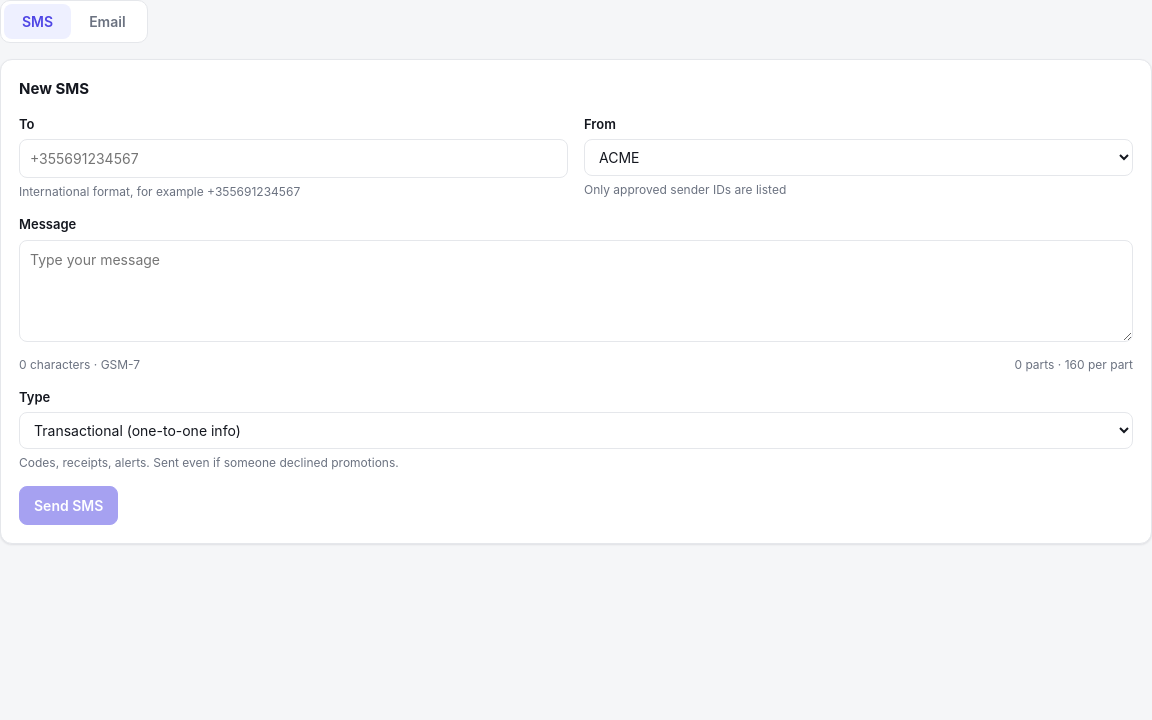
Send SMS › validates the number, shows the live price and sends with an Idempotency-Key
The image size is (1152, 720).
Expected: the button "Send SMS" is disabled, [19,486,118,525]
Type "0691234567" into the field with placeholder "+355691234567". click: (294, 158)
box: [19,139,568,178]
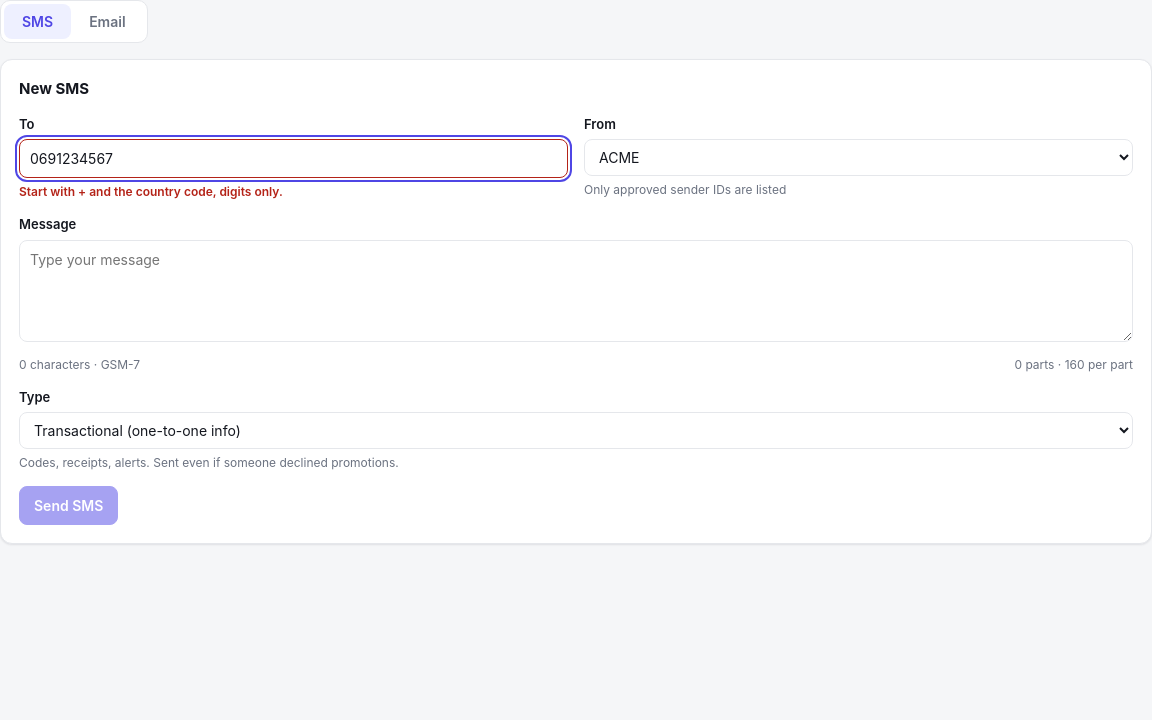
Expected: the button "Send SMS" is disabled, [19,486,118,525]
Replace the text in the field with placeholder "+355691234567" with "+355691234567". click: (294, 158)
box: [19,139,568,178]
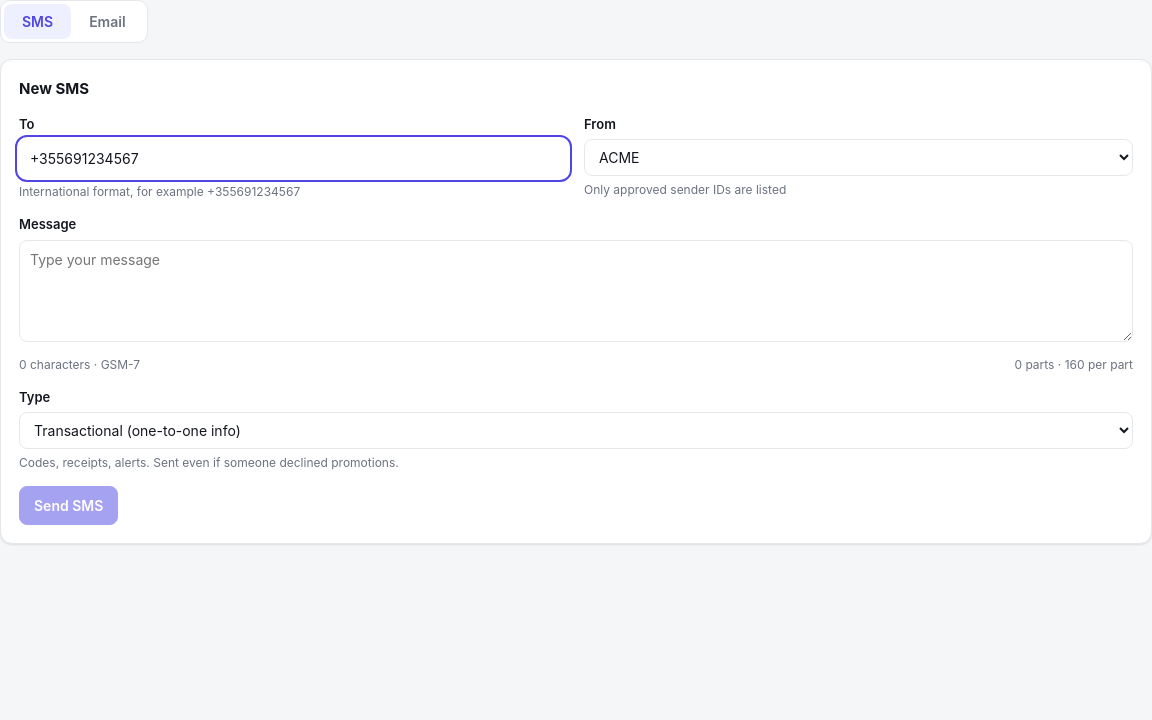
Type "Hello there" into the text box labelled "Message". click: (576, 290)
box: [19,240,1133,342]
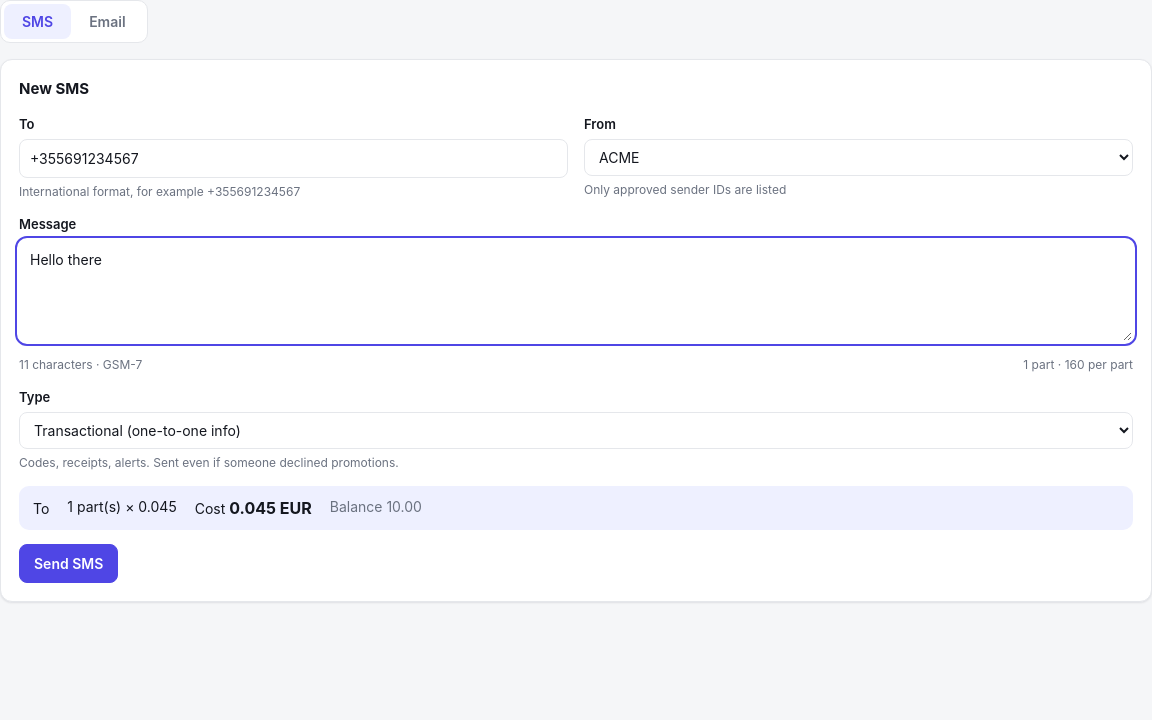
Expected: the text "1 part(s) × 0.045" is shown, [67,496,177,520]
Expected: the text "11 characters · GSM-7" is shown, [19,356,142,374]
Click the button "Send SMS". click: (69, 564)
box: [19,544,118,583]
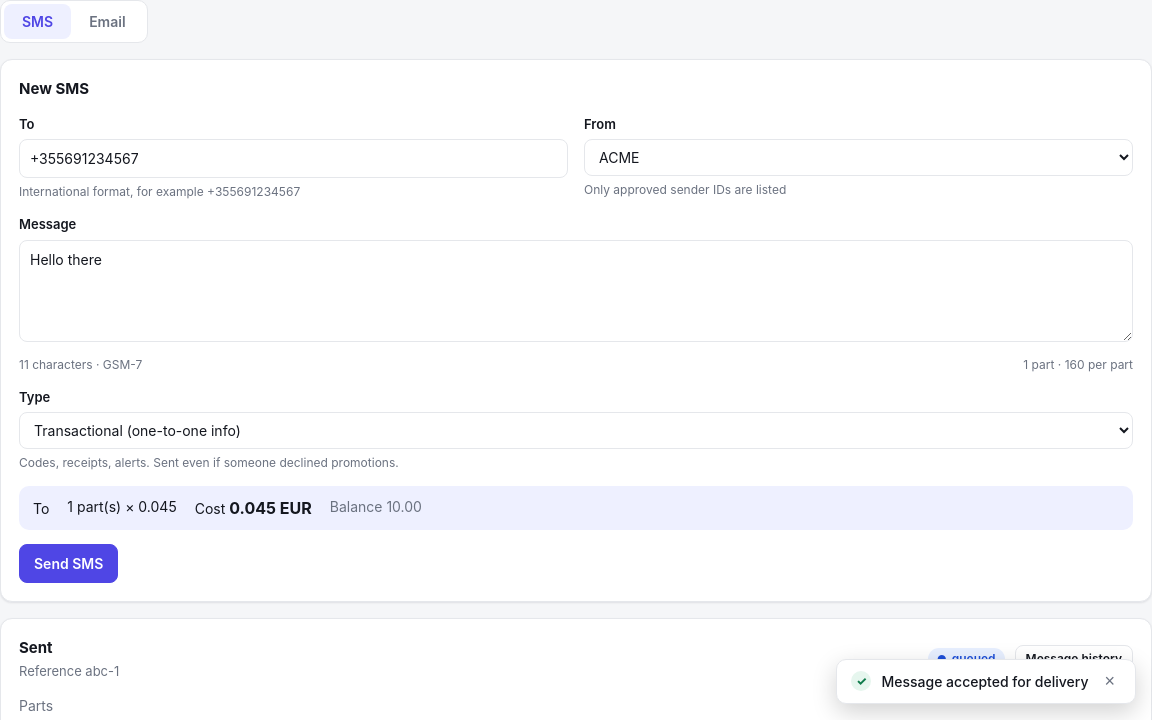
Expected: the text "Message accepted for delivery" is shown, [881,673,1088,690]
